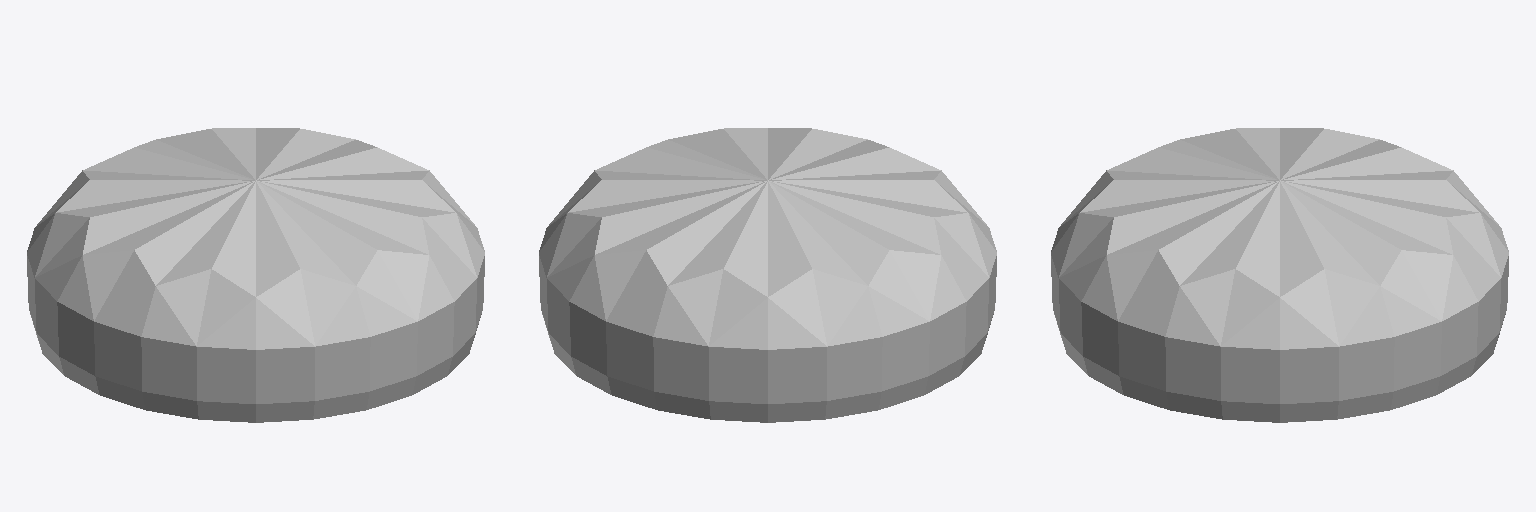
File: tyreb.obj
3 renders of one model, left to right at view 1: azimuth 30°, elevation 25°; view 2: azimuth 150°, elevation 25°; view 3: azimuth 270°, elevation 25°, orthographic.
Visible parts, largest first — view 1: TyreBL_Plane.007; view 2: TyreBL_Plane.007; view 3: TyreBL_Plane.007.
Part boxes in pixels (bbox=[...]): TyreBL_Plane.007: bbox=[27, 128, 484, 422]; TyreBL_Plane.007: bbox=[539, 128, 996, 422]; TyreBL_Plane.007: bbox=[1051, 128, 1508, 422].
Size of the model in its own units: 0.9391 by 0.3408 by 0.9391.